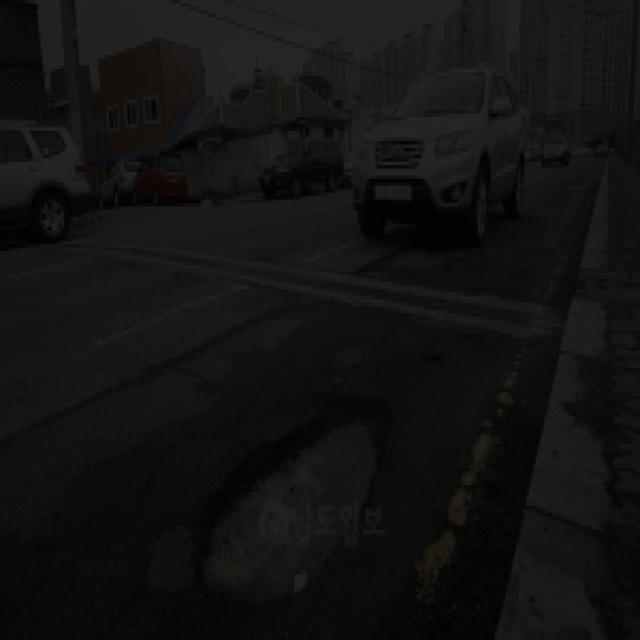pothole: (190, 373, 398, 622)
